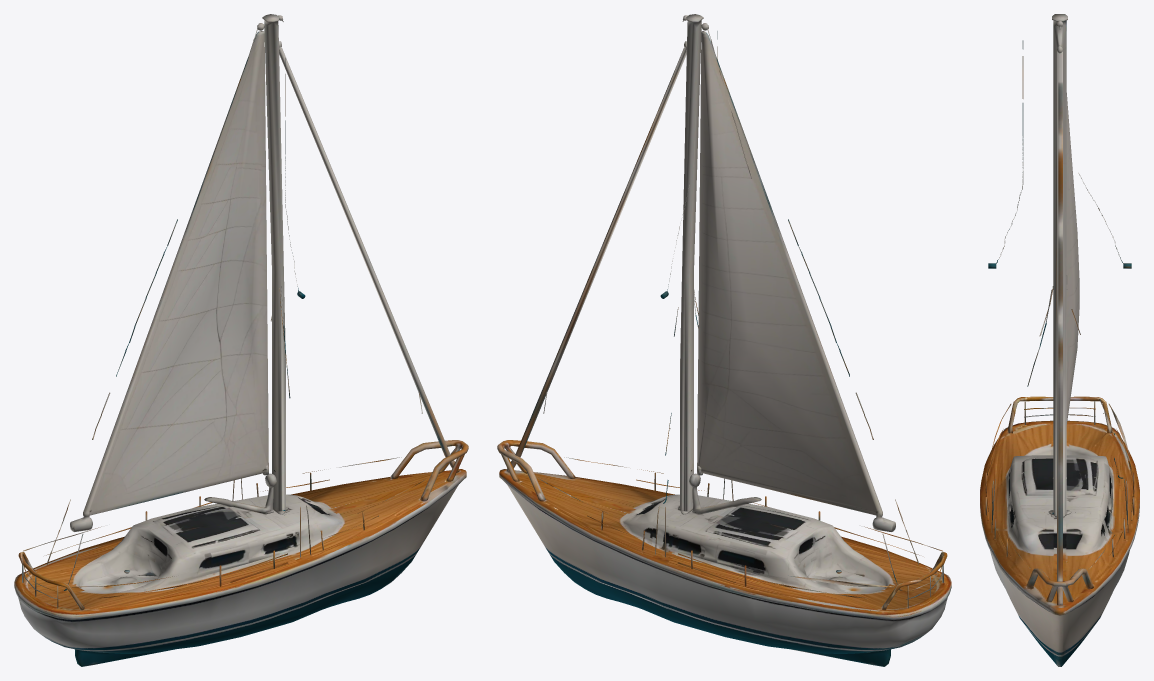
Rendered from a_sailboat_f6e631cb_v4.glb.
3 views of the same model, side by side, from view 1: azimuth 30°, elevation 25°; view 2: azimuth 150°, elevation 25°; view 3: azimuth 270°, elevation 25° (orthographic).
Parts seen in each view (by area): view 1: material; view 2: material; view 3: material.
Part boxes in pixels (left/top/right/bottom): material: left=14, top=14, right=468, bottom=666; material: left=497, top=14, right=951, bottom=666; material: left=980, top=14, right=1139, bottom=666.
Bounding box in the file's own units: 1.44 × 1.9 × 0.4554.
Materials: 1 (1 with a texture image).
